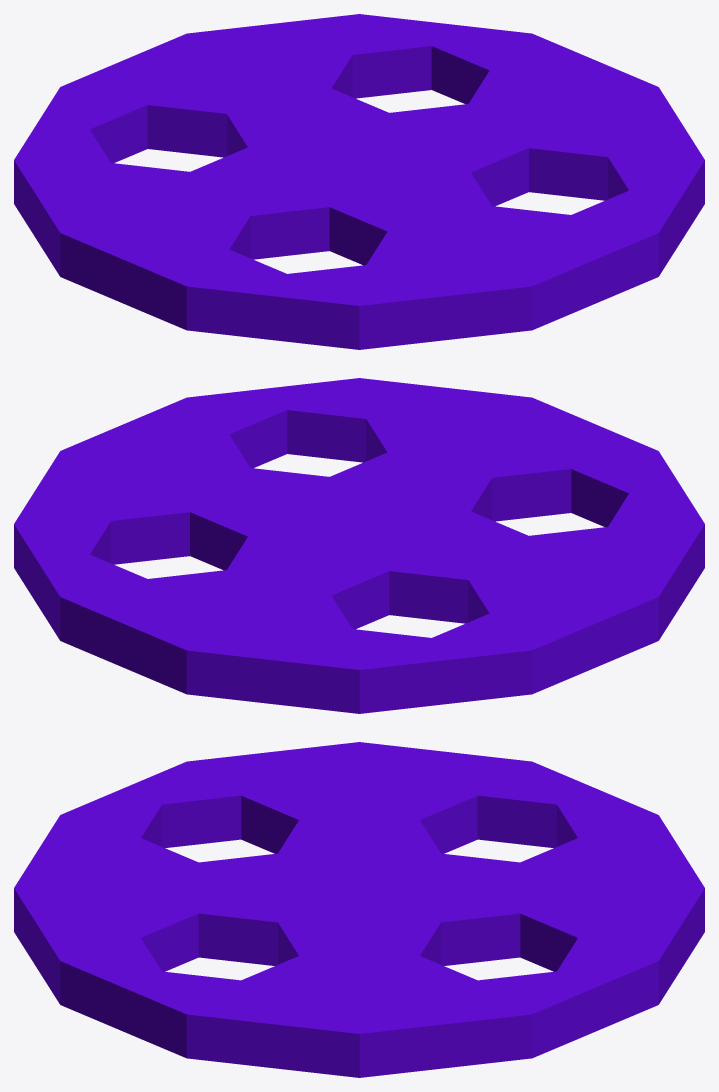
The model's file is Character_Button_001.fbx.
3 views of the same model, one above another, from view 1: azimuth 30°, elevation 25°; view 2: azimuth 150°, elevation 25°; view 3: azimuth 270°, elevation 25° (orthographic).
Parts seen in each view (by area): view 1: Character_Button_001; view 2: Character_Button_001; view 3: Character_Button_001.
Boxes of the visible parts, x1,y1,x2,y2 form: Character_Button_001: (14, 14, 704, 349); Character_Button_001: (14, 378, 704, 713); Character_Button_001: (14, 742, 704, 1077).
Bounding box in the file's own units: 61.48 × 4.32 × 61.48.
